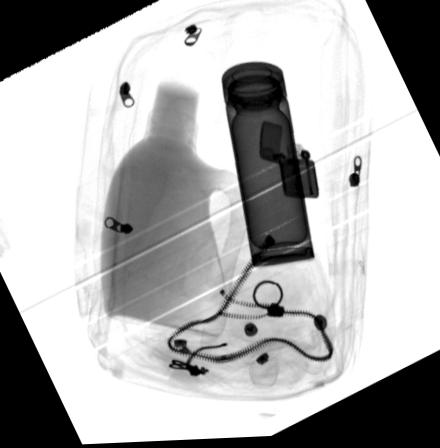Lighter: (258, 122, 319, 201)
